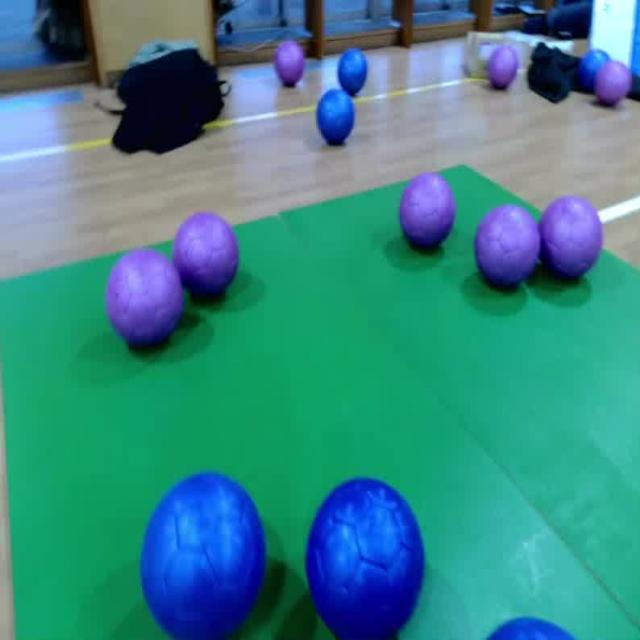blue_ball: (140, 472, 268, 640), (301, 478, 427, 640), (480, 611, 580, 640), (315, 89, 356, 148), (337, 52, 368, 93)
purple_ball: (104, 246, 186, 353), (174, 213, 242, 302), (540, 194, 602, 284), (476, 204, 540, 287), (402, 172, 456, 254), (582, 47, 615, 94), (594, 60, 629, 104), (275, 42, 306, 88), (490, 47, 518, 92)
